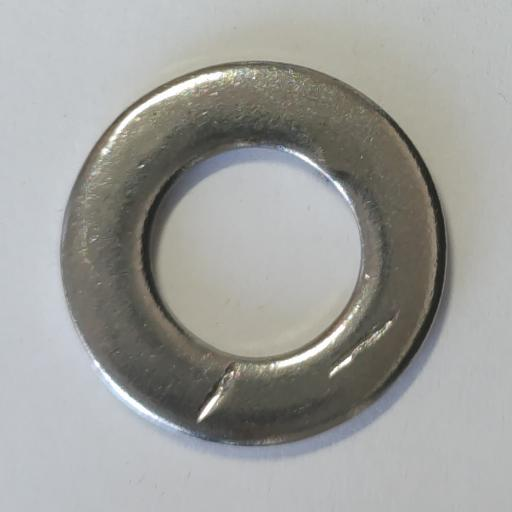scratch: (329, 311, 399, 379), (195, 362, 239, 424)
